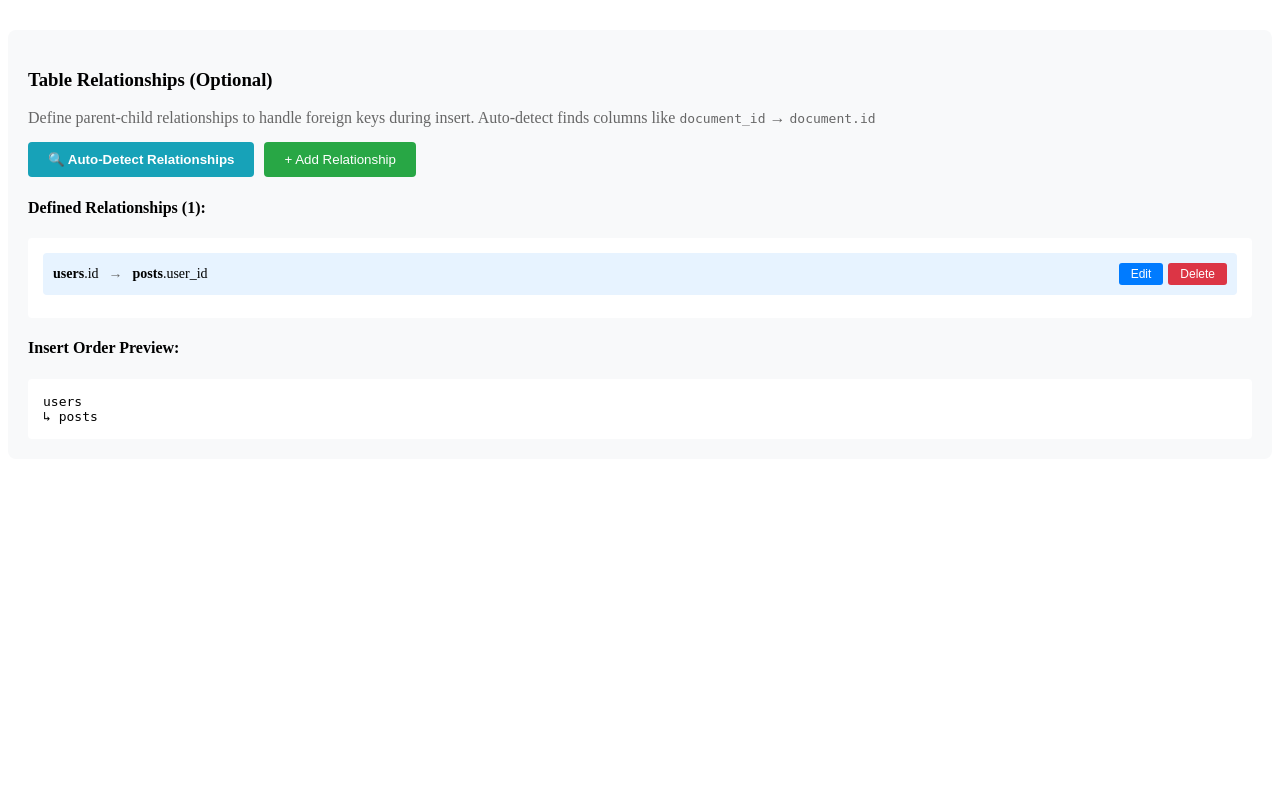
Scenario: RelationshipEditor › should populate form when Edit is clicked
The image size is (1280, 800).
Click the button "Edit".
click(1141, 274)  # box [1119,263,1163,285]
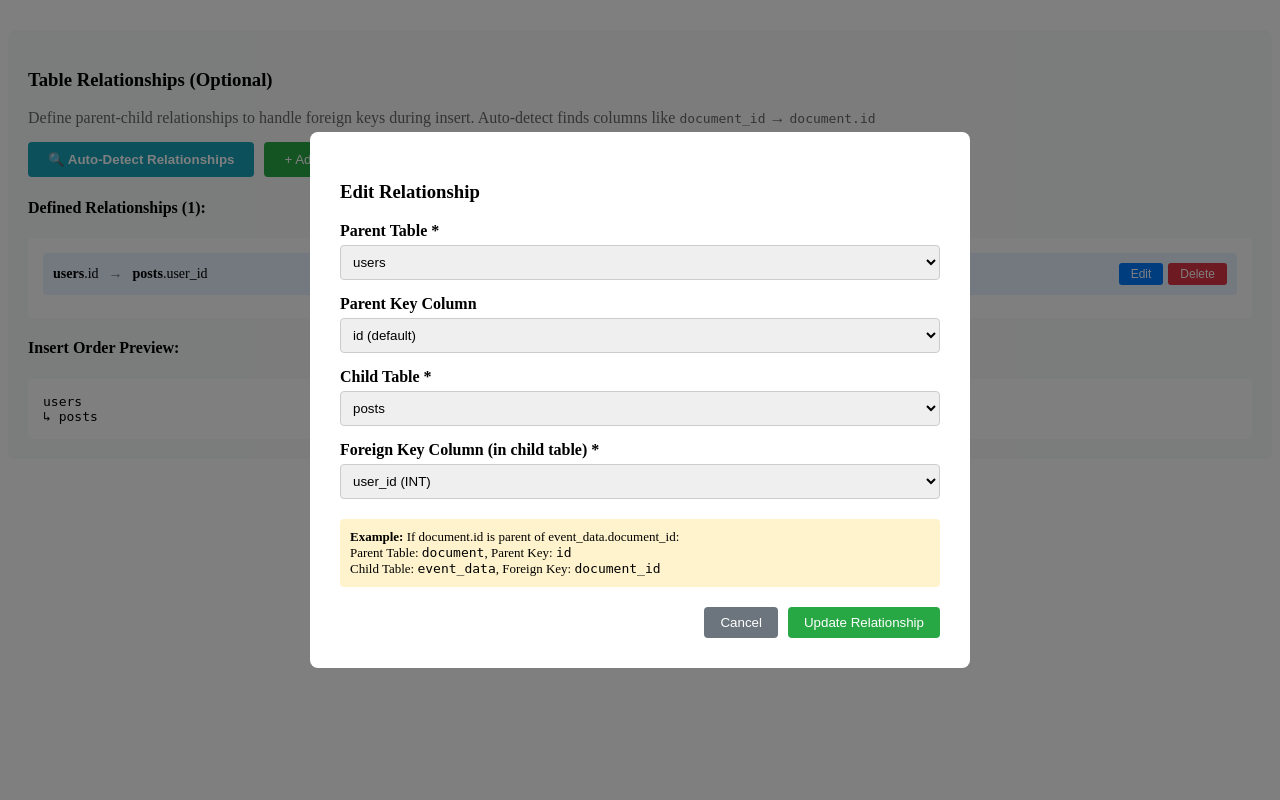
Now the heading "Edit Relationship" is shown, box [340,181,480,202]
Now the dropdown below "Parent Table *" shows "users", box [340,245,940,280]
Now the dropdown below "Child Table *" shows "posts", box [340,391,940,426]
